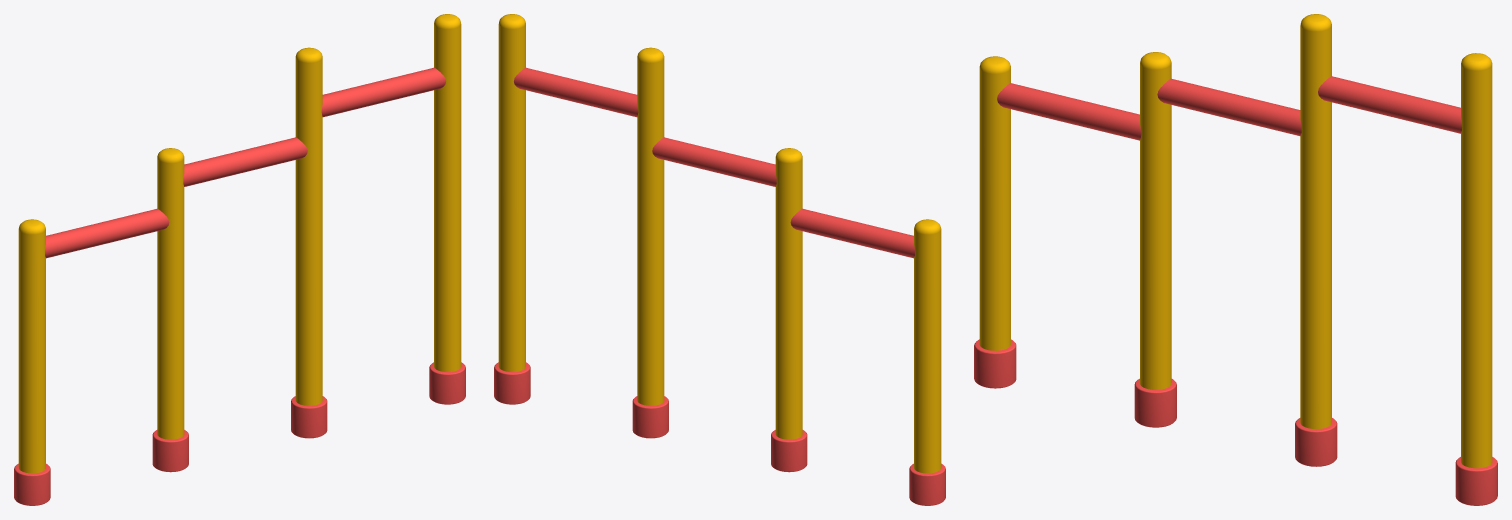
The model's file is City_18_Horizontal_Bar_1.glb.
3 views of the same model, side by side, from view 1: azimuth 30°, elevation 25°; view 2: azimuth 150°, elevation 25°; view 3: azimuth 330°, elevation 25° (orthographic). The views are drawn at different scales.
Parts seen in each view (by area): view 1: City_18_Horizontal_Bar_1; view 2: City_18_Horizontal_Bar_1; view 3: City_18_Horizontal_Bar_1.
Boxes of the visible parts, bbox=[...] form: City_18_Horizontal_Bar_1: bbox=[14, 14, 465, 505]; City_18_Horizontal_Bar_1: bbox=[494, 14, 945, 505]; City_18_Horizontal_Bar_1: bbox=[974, 14, 1497, 505].
Bounding box in the file's own units: 2.72 × 2.21 × 0.1928.
1 material, 1 textured.
